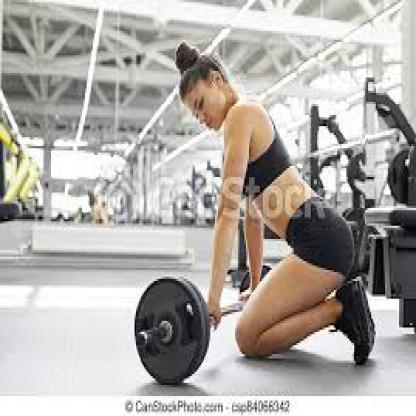Barbell: (123, 264, 218, 388)
